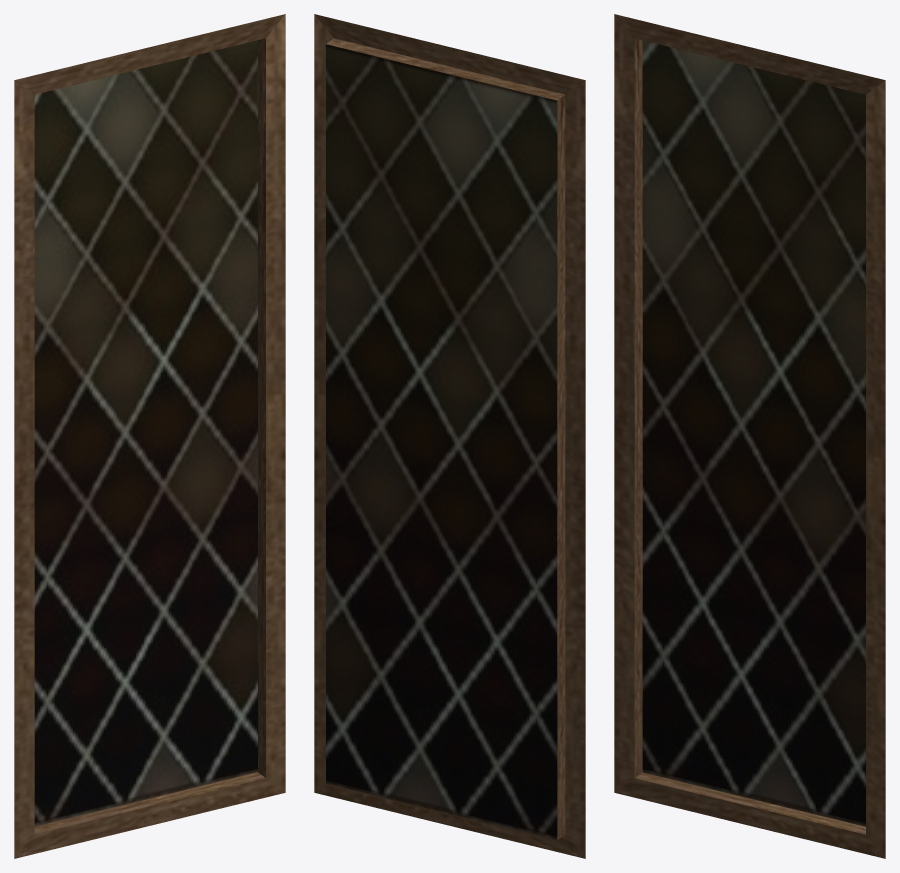
Rendered from WindowPaneB.fbx.
The picture shows the model from 3 angles, left to right: view 1: azimuth 30°, elevation 25°; view 2: azimuth 150°, elevation 25°; view 3: azimuth 330°, elevation 25°; orthographic projection.
Parts seen in each view (by area): view 1: WindowSlimPaneA_LOD0; view 2: WindowSlimPaneA_LOD0; view 3: WindowSlimPaneA_LOD0.
Boxes of the visible parts, x1,y1,x2,y2 form: WindowSlimPaneA_LOD0: [14, 14, 285, 858]; WindowSlimPaneA_LOD0: [314, 14, 585, 858]; WindowSlimPaneA_LOD0: [614, 14, 885, 858].
Size of what is drawn, in the model's own units: 49.8 by 136 by 2.55.
